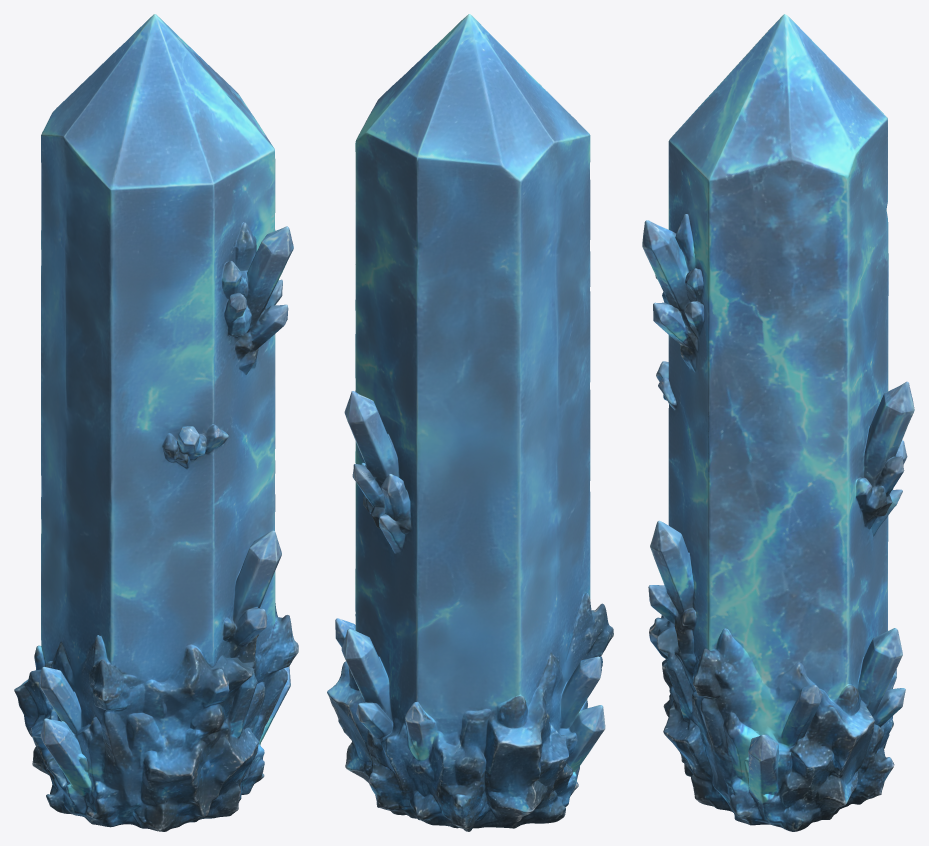
The model's file is raw_crystal.glb.
3 views of the same model, side by side, from view 1: azimuth 30°, elevation 25°; view 2: azimuth 150°, elevation 25°; view 3: azimuth 270°, elevation 25° (orthographic).
Visible parts, largest first — view 1: tripo_node_055a9ea0-b8fe-4574-9dcb-473b873e7b93; view 2: tripo_node_055a9ea0-b8fe-4574-9dcb-473b873e7b93; view 3: tripo_node_055a9ea0-b8fe-4574-9dcb-473b873e7b93.
Boxes of the visible parts, x1,y1,x2,y2 form: tripo_node_055a9ea0-b8fe-4574-9dcb-473b873e7b93: (14, 14, 298, 831); tripo_node_055a9ea0-b8fe-4574-9dcb-473b873e7b93: (327, 14, 613, 831); tripo_node_055a9ea0-b8fe-4574-9dcb-473b873e7b93: (642, 14, 914, 831).
Bounding box in the file's own units: 0.331 × 1 × 0.3193.
Materials: 1 (1 with a texture image).
